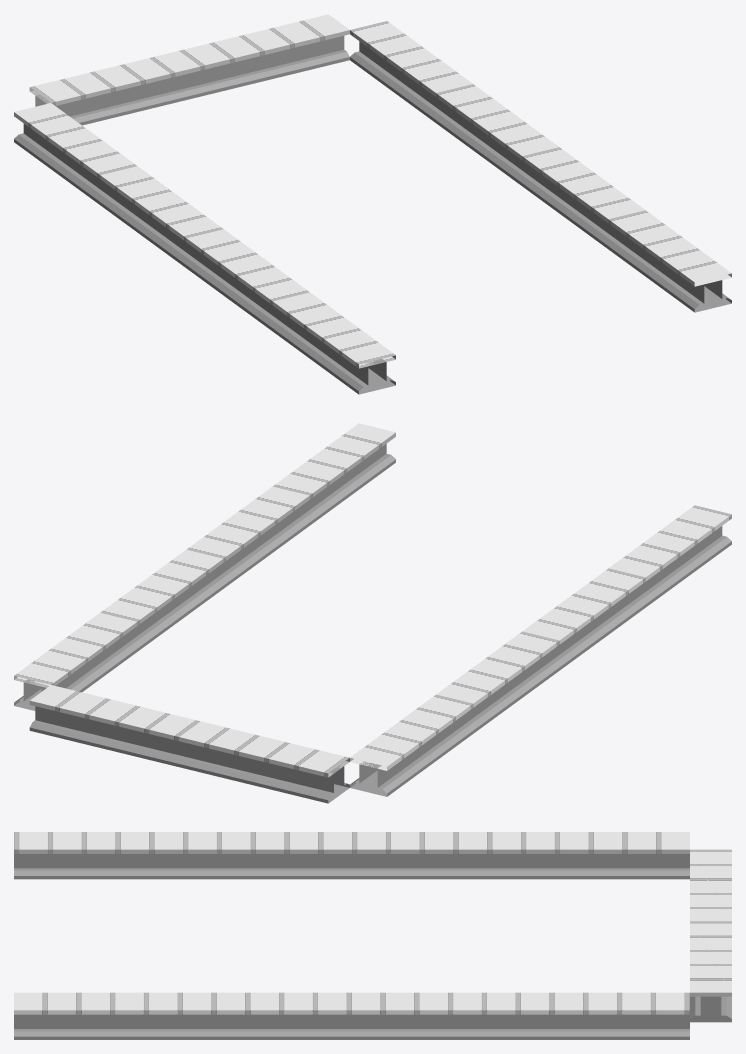
File: conveyor_V1.fbx
3 views of the same model, one above another, from view 1: azimuth 30°, elevation 25°; view 2: azimuth 150°, elevation 25°; view 3: azimuth 270°, elevation 25° (orthographic). The views are drawn at different scales.
Parts seen in each view (by area): view 1: type_long_2, type_long_1; view 2: type_long_2, type_long_1; view 3: type_long_2, type_long_1.
Boxes of the visible parts, x1,y1,x2,y2 form: type_long_2: (29,14,731,312); type_long_1: (14,103,395,394); type_long_2: (14,423,395,803); type_long_1: (350,505,731,796); type_long_2: (14,849,731,1039); type_long_1: (14,832,689,879).
Size of the model in its own units: 495 by 38.23 by 841.
